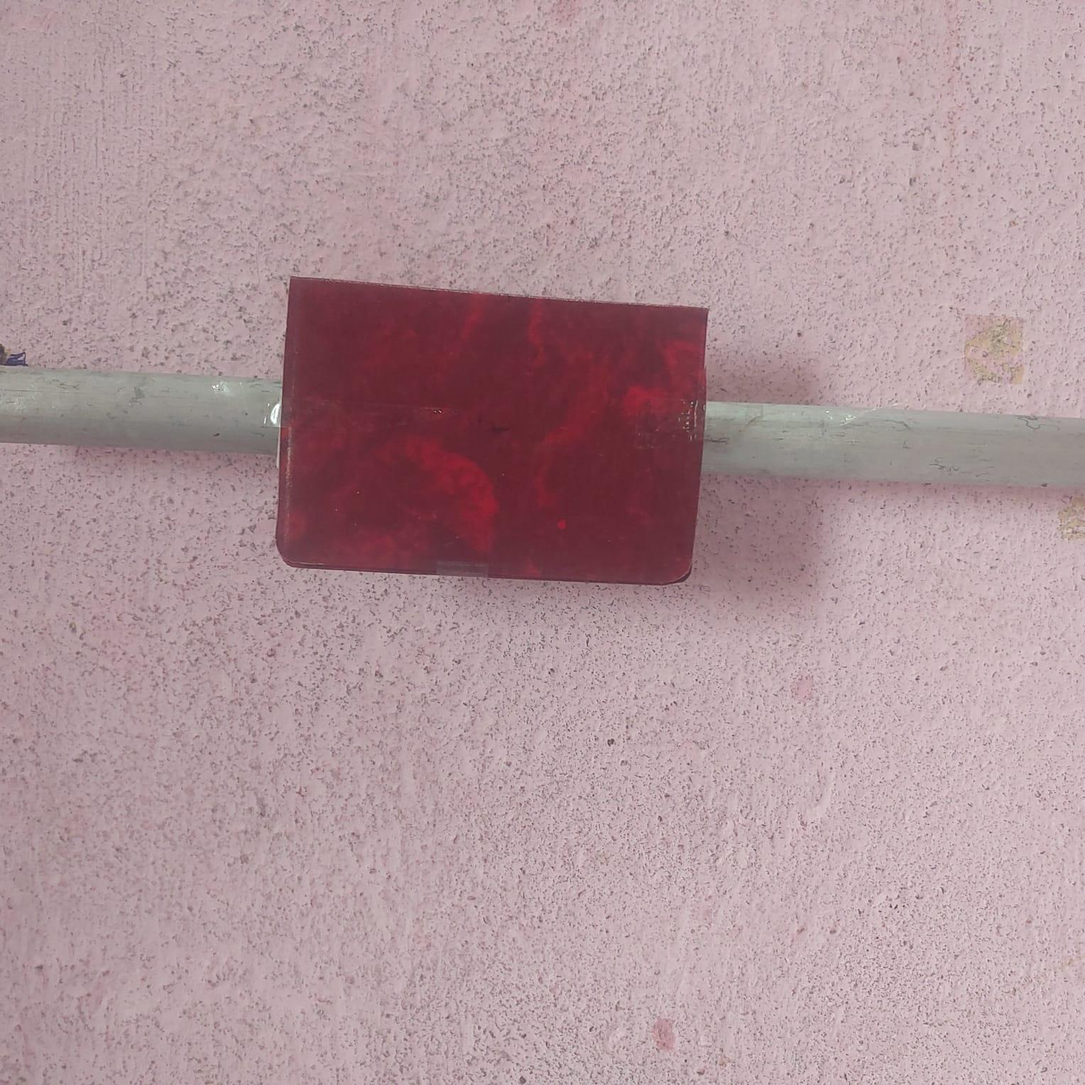wallet: (279, 283, 712, 590)
